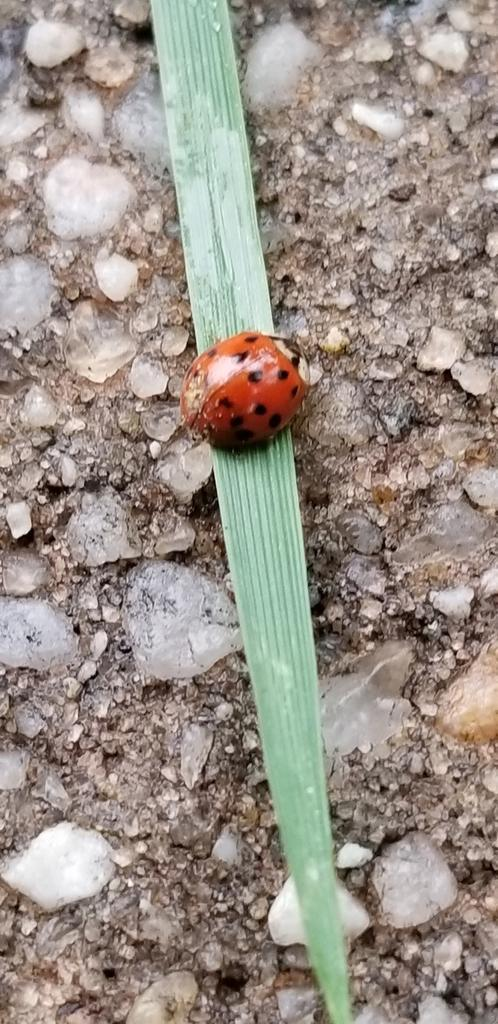ladybug: (178, 328, 314, 457)
